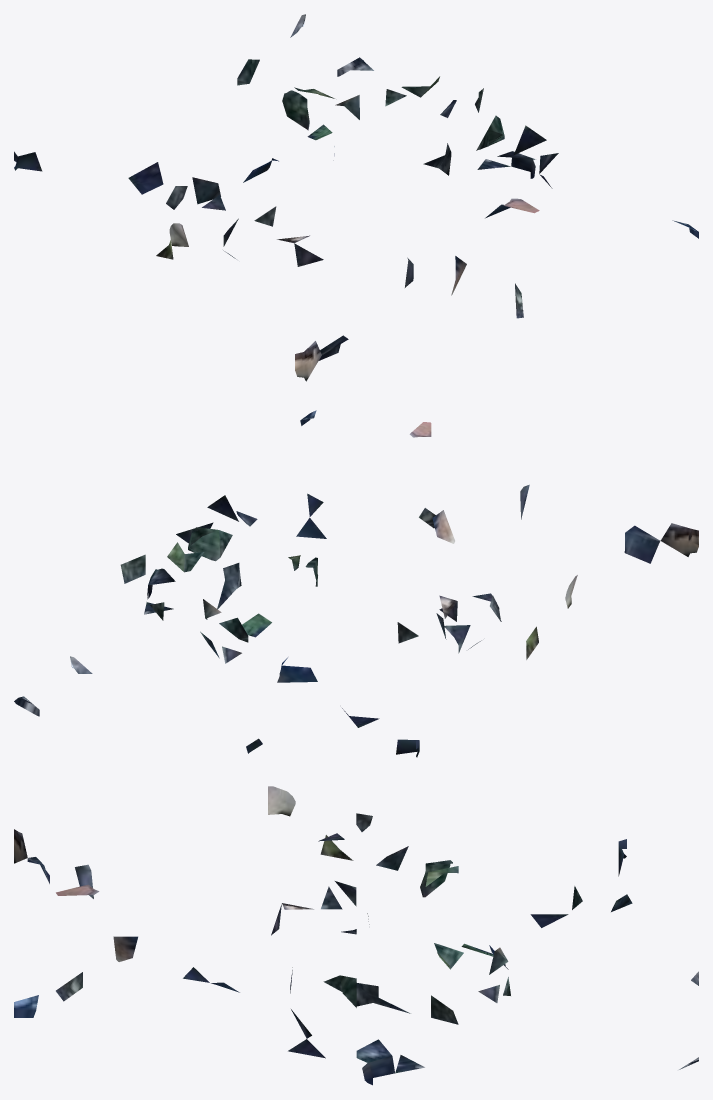
The picture shows the model from 3 angles, top to bottom: view 1: azimuth 30°, elevation 25°; view 2: azimuth 150°, elevation 25°; view 3: azimuth 270°, elevation 25°; orthographic projection. The views are drawn at different scales.
Visible parts, largest first — view 1: 30436272704361537700_1; view 2: 30436272704361537700_1; view 3: 30436272704361537700_1.
Part boxes in pixels (x1=…): 30436272704361537700_1: x1=14, y1=14, x2=698, y2=381; 30436272704361537700_1: x1=14, y1=410, x2=698, y2=757; 30436272704361537700_1: x1=14, y1=786, x2=698, y2=1085.
Bounding box in the file's own units: 27.77 × 7.24 × 38.26.
1 material, 1 textured.
